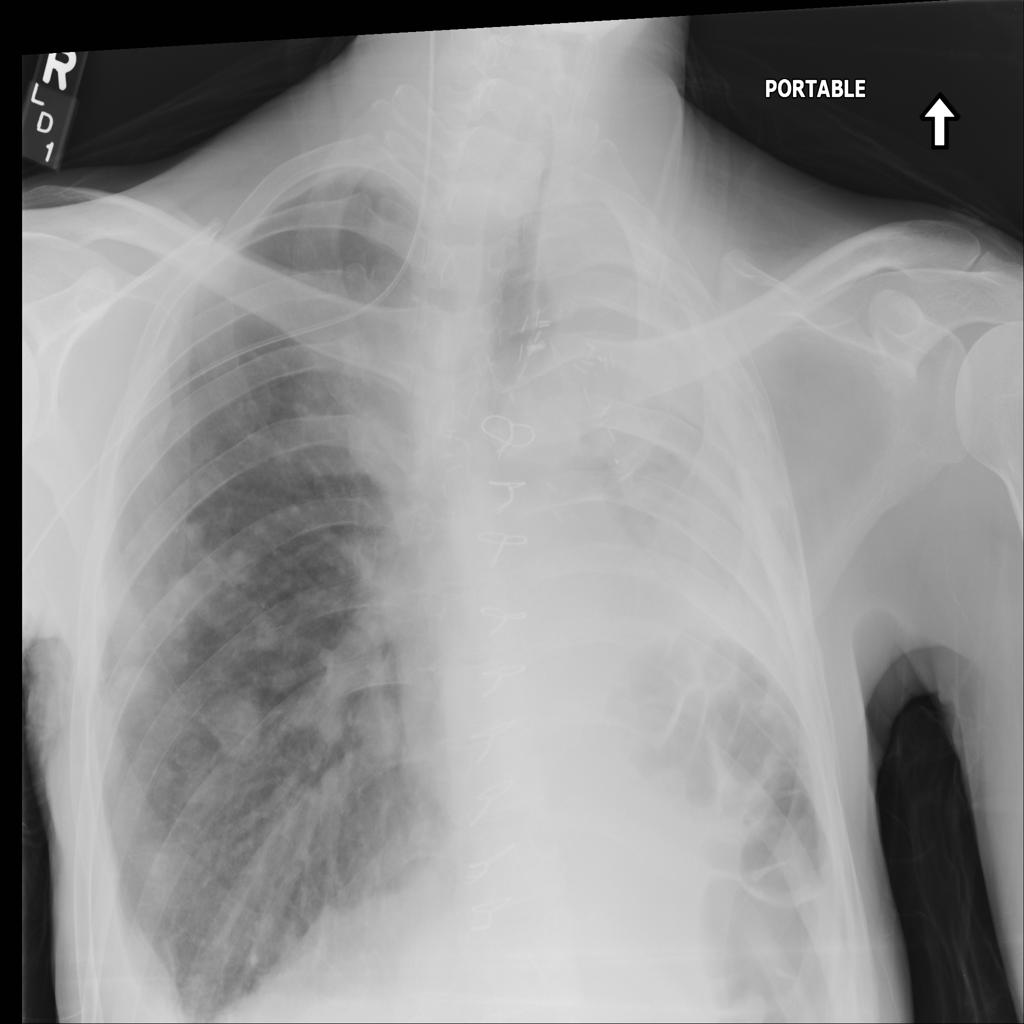nodule: (347, 682, 417, 773), (204, 683, 273, 773), (105, 642, 175, 716), (257, 648, 304, 705), (215, 532, 263, 586), (246, 600, 290, 658), (171, 502, 222, 551)
